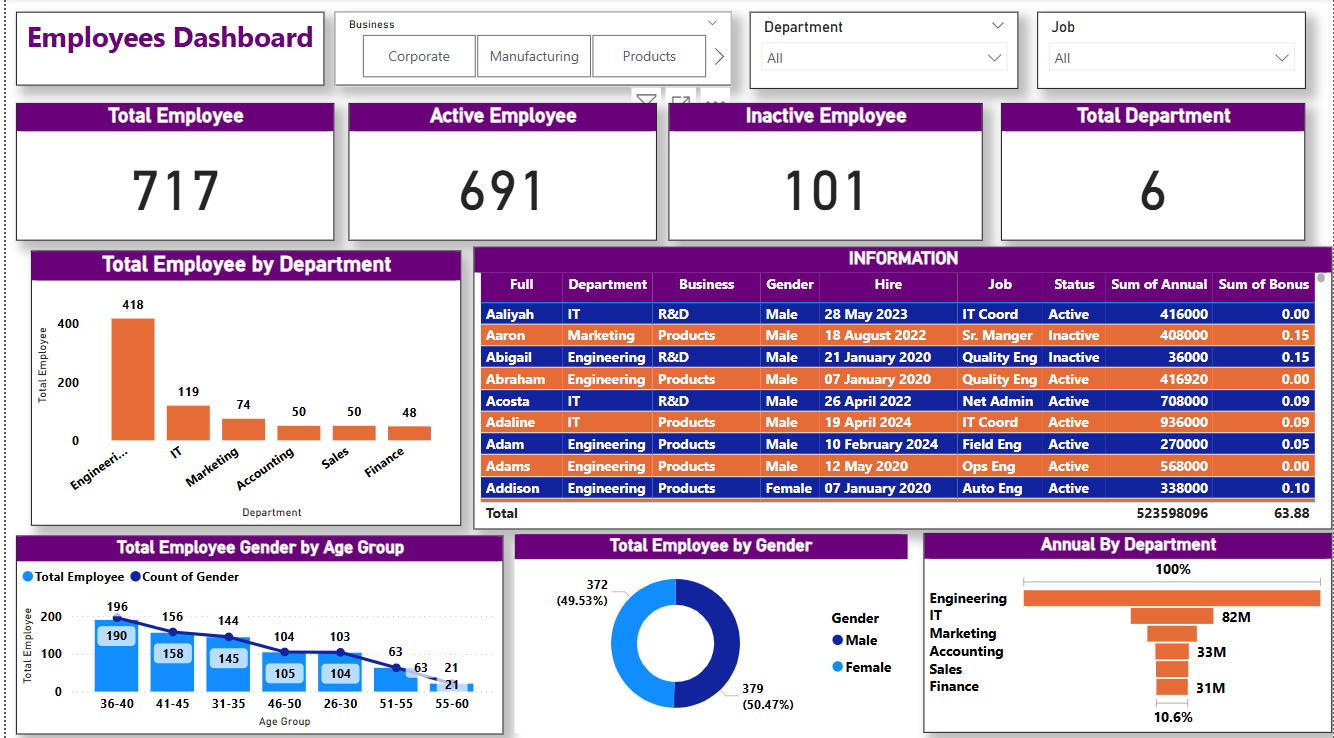

This screenshot's page, from the dashboard's own definition file:
{"tool":"powerbi","page":{"name":"Page 1","canvas":[1280,720],"ordinal":0},"visuals":[{"type":"textbox","box":[9.6,0,321.1,63.1],"z":0},{"type":"textbox","box":[9.6,13.7,297.8,71.4],"z":1000},{"type":"slicer","fields":{"Values":["Data.Business"]},"box":[317,13.7,382.8,71.4],"z":2000},{"type":"slicer","fields":{"Values":["Data.Department"]},"box":[717.7,13.7,259.3,74.1],"z":3000},{"type":"slicer","fields":{"Values":["Data.Job"]},"box":[994.9,13.7,259.3,74.1],"z":4000},{"type":"card","title":"Total Employee","fields":{"Values":["Data.Total Employee"]},"box":[9.6,101.5,307.4,133.1],"z":5000},{"type":"card","title":"Active   Employee","fields":{"Values":["Data.Active Employee"]},"box":[330.7,101.5,297.8,133.1],"z":6000},{"type":"card","title":"Total Department","fields":{"Values":["Data.Total Department"]},"box":[960.6,101.5,293.7,133.1],"z":7000},{"type":"card","title":"Inactive   Employee","fields":{"Values":["Data.Inactive Eployee"]},"box":[639.5,101.5,303.3,133.1],"z":8000},{"type":"columnChart","fields":{"Category":["Data.Department"],"Y":["Data.Total Employee"]},"box":[24.1,243.7,415,265.4],"z":8001},{"type":"tableEx","title":"INFORMATION","fields":{"Values":["Data.Full","Data.Department","Data.Business","Data.Gender","Data.Hire","Data.Job","Data.Status","Sum(Data.Annual)","Sum(Data.Bonus)"]},"box":[451.2,240.1,828.8,272.7],"z":8002},{"type":"lineStackedColumnComboChart","title":"Total Employee Gender by Age Group","fields":{"Category":["Data.Age Group"],"Y":["Data.Total Employee"],"Y2":["CountNonNull(Data.Gender)"]},"box":[9.7,518.8,470.5,191.8],"z":8003},{"type":"donutChart","fields":{"Y":["Data.Total Employee"],"Category":["Data.Gender"]},"box":[491,517.6,378.8,191.8],"z":8004},{"type":"funnel","title":"Annual By Department","fields":{"Category":["Data.Department"],"Y":["Sum(Data.Annual)"]},"box":[885.5,516.4,394.5,193],"z":8005}]}

Visuals, with their boxes in screenshot pixels (x1, y1, x2, y2), scaled from the page's 1280x720 canvas onto the 1334x738 screenshot:
textbox: [10, 0, 345, 65]
textbox: [10, 14, 320, 87]
slicer - Data.Business: [330, 14, 729, 87]
slicer - Data.Department: [748, 14, 1018, 90]
slicer - Data.Job: [1037, 14, 1307, 90]
"Total Employee" card: [10, 104, 330, 240]
"Active   Employee" card: [345, 104, 655, 240]
"Total Department" card: [1001, 104, 1307, 240]
"Inactive   Employee" card: [666, 104, 983, 240]
columnChart - Data.Department x Data.Total Employee: [25, 250, 458, 522]
"INFORMATION" tableEx: [470, 246, 1333, 526]
"Total Employee Gender by Age Group" lineStackedColumnComboChart: [10, 532, 500, 728]
donutChart - Data.Total Employee x Data.Gender: [512, 531, 906, 727]
"Annual By Department" funnel: [923, 529, 1333, 727]
